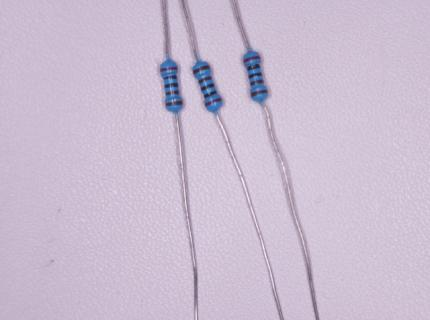Black band: (200, 83, 215, 92), (204, 90, 218, 99), (246, 63, 261, 71), (249, 72, 263, 79), (164, 82, 178, 88), (163, 75, 178, 80)
Brown band: (192, 64, 211, 75), (251, 88, 269, 98), (197, 75, 213, 85), (165, 100, 183, 107), (250, 79, 264, 86), (166, 90, 179, 95)
Red band: (204, 97, 223, 107), (243, 55, 262, 63), (160, 66, 178, 72)
